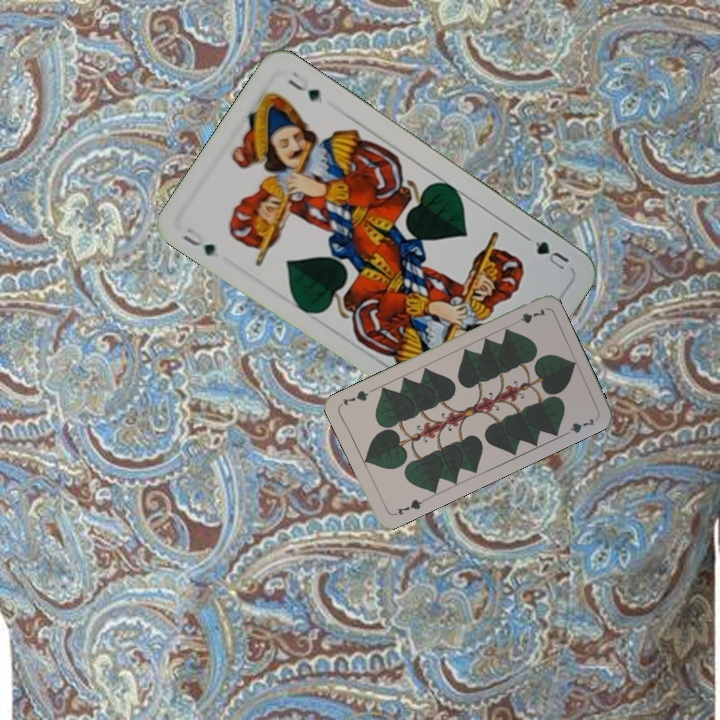G7: (508, 304, 549, 328), (390, 495, 428, 518)
GU: (531, 237, 572, 273), (178, 225, 218, 259)
